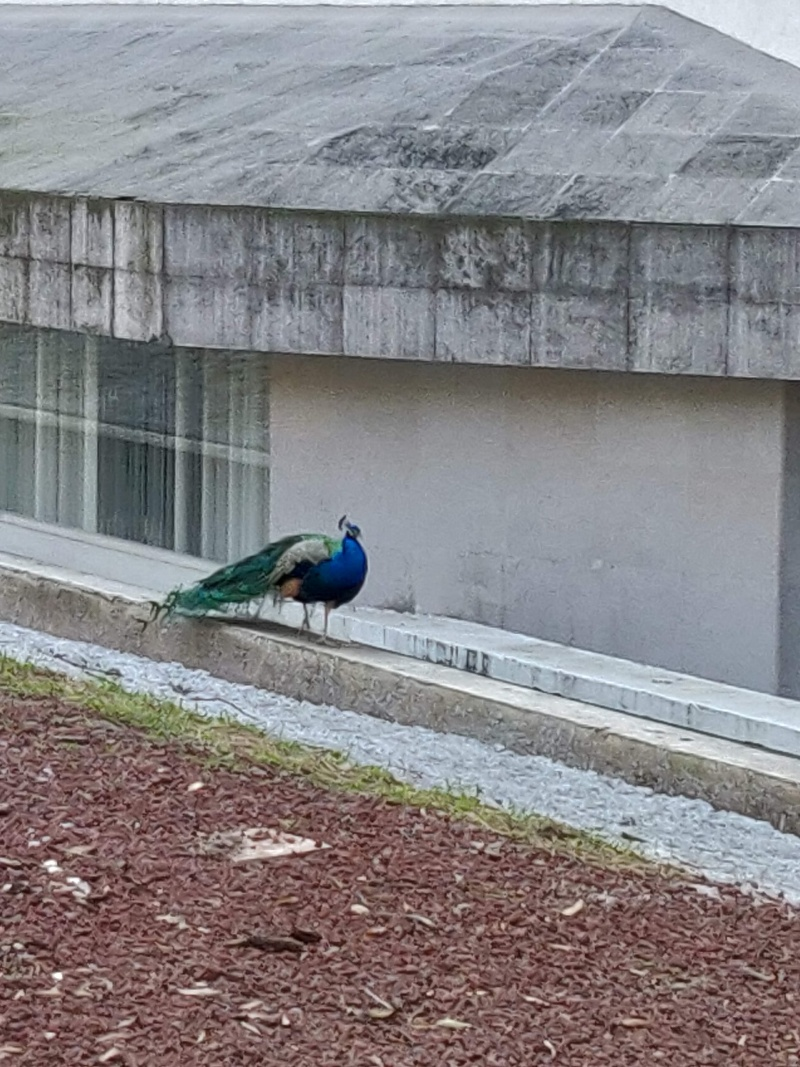pavoreal: (269, 511, 374, 622)
